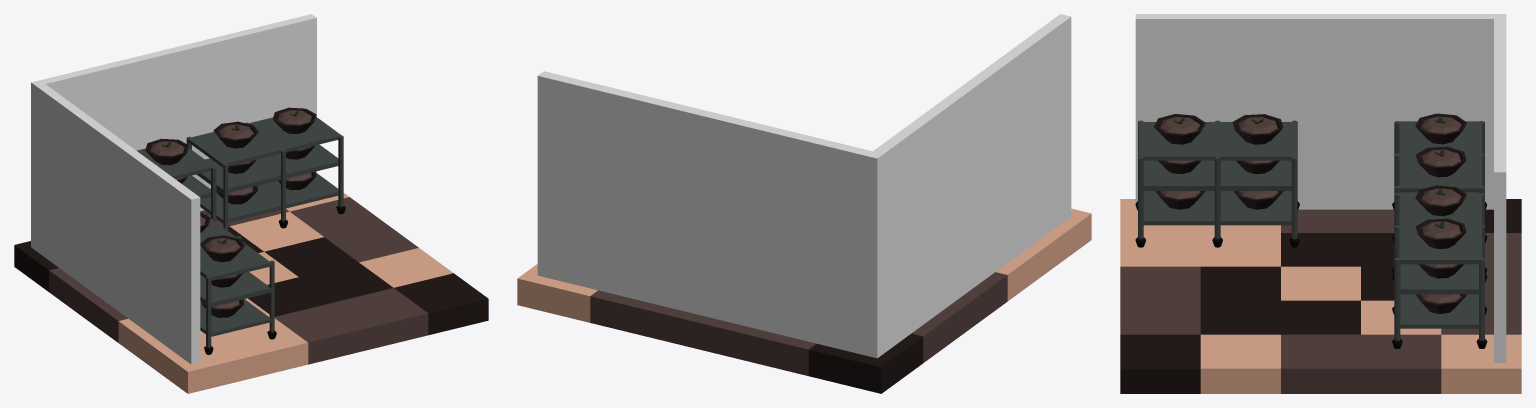
The model's file is 土壤調查試驗中心.fbx.
The picture shows the model from 3 angles, left to right: view 1: azimuth 30°, elevation 25°; view 2: azimuth 150°, elevation 25°; view 3: azimuth 270°, elevation 25°; orthographic projection. The views are drawn at different scales.
Visible parts, largest first — view 1: Box268, plane_mud, Box580, Box589, Box201, Box600, Box604, Box602, Box606; view 2: Box268, plane_mud; view 3: plane_mud, Box268, Box589, Box580, Box201, Box608, Box604, Box600, Box598, Box602, Box606, Box603 (+11 smaller).
Boxes of the visible parts, <box> form: Box268: <box>31,14,316,364</box>; plane_mud: <box>14,173,488,393</box>; Box580: <box>186,117,345,230</box>; Box589: <box>200,212,276,354</box>; Box201: <box>137,148,216,221</box>; Box600: <box>145,138,188,165</box>; Box604: <box>272,107,316,133</box>; Box602: <box>213,121,258,148</box>; Box606: <box>200,235,244,262</box>; Box268: <box>537,14,1071,358</box>; plane_mud: <box>517,208,1091,393</box>; plane_mud: <box>1120,199,1521,393</box>; Box268: <box>1135,14,1506,362</box>; Box589: <box>1135,120,1299,247</box>; Box580: <box>1392,193,1487,348</box>; Box201: <box>1392,121,1487,273</box>; Box608: <box>1232,114,1283,144</box>; Box604: <box>1415,218,1466,248</box>; Box600: <box>1415,146,1466,177</box>; Box598: <box>1415,113,1466,144</box>; Box602: <box>1415,185,1466,216</box>; Box606: <box>1154,114,1205,144</box>; Box603: <box>1421,188,1461,205</box>.
Bounding box in the file's own units: 100 × 59.44 × 100.
